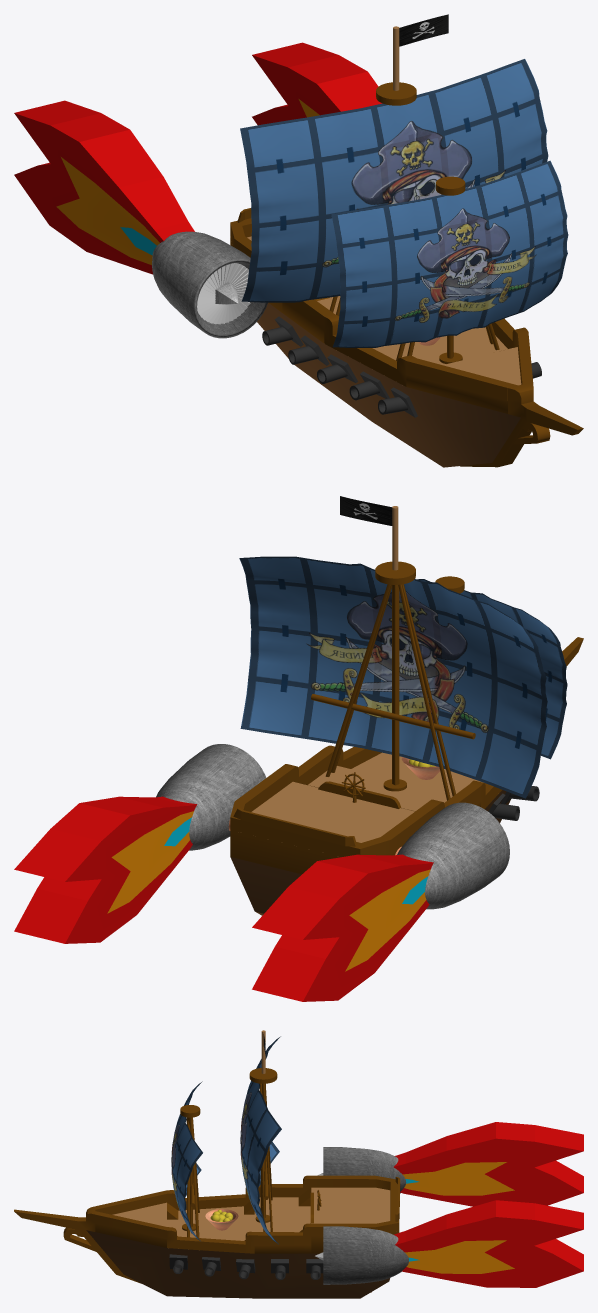
Rendered from ship1fbx.fbx.
3 views of the same model, one above another, from view 1: azimuth 30°, elevation 25°; view 2: azimuth 150°, elevation 25°; view 3: azimuth 270°, elevation 25° (orthographic). The views are drawn at different scales.
Parts seen in each view (by area): view 1: Sails, Flames, NewBoatBase, Engines, Cannon, NewBoatBaseDetails, Blades, Flags; view 2: Sails, Flames, NewBoatBase, Engines, NewBoatBaseDetails, Flags, Cannon; view 3: NewBoatBase, Flames, Engines, Sails, NewBoatBaseDetails, Cannon.
Boxes of the visible parts, x1,y1,x2,y2 form: Sails: (240,59,568,347); Flames: (14,42,382,274); NewBoatBase: (230,218,583,467); Engines: (152,231,267,338); Cannon: (262,316,541,417); NewBoatBaseDetails: (237,82,499,363); Blades: (197,263,250,324); Flags: (399,14,448,46); Sails: (239,556,567,798); Flames: (14,796,433,1001); NewBoatBase: (230,637,583,915); Engines: (156,744,509,909); NewBoatBaseDetails: (233,561,475,846); Flags: (340,496,392,525); Cannon: (488,786,539,820); NewBoatBase: (14,1175,399,1298); Flames: (393,1122,583,1287); Engines: (315,1147,408,1284); Sails: (171,1036,281,1244); NewBoatBaseDetails: (167,1068,400,1240); Cannon: (169,1254,323,1279).
Bounding box in the file's own units: 17.61 × 20.34 × 40.5.
15 materials, 4 textured.
